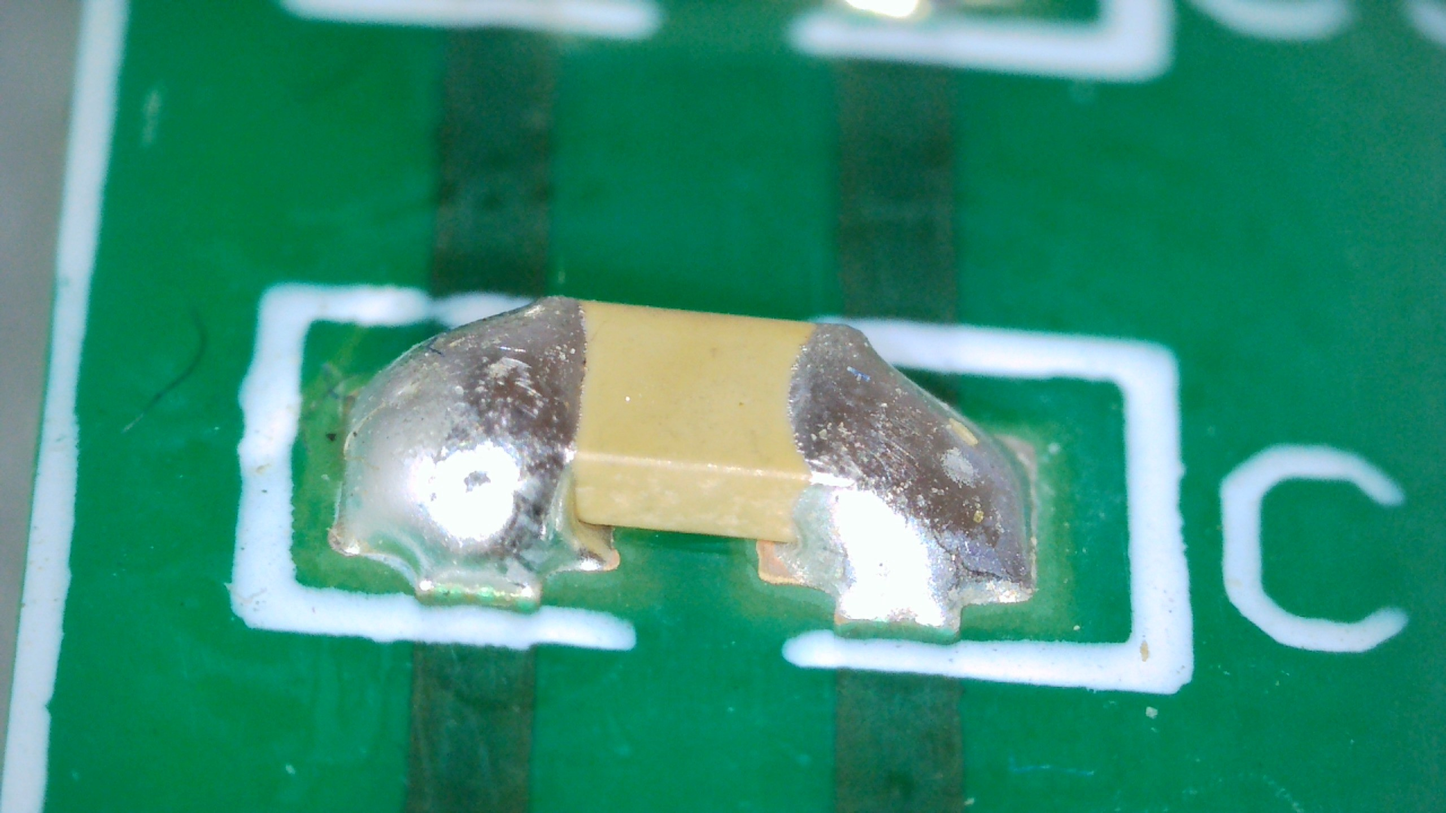NG: (326, 298, 606, 602), (778, 323, 1032, 630)
